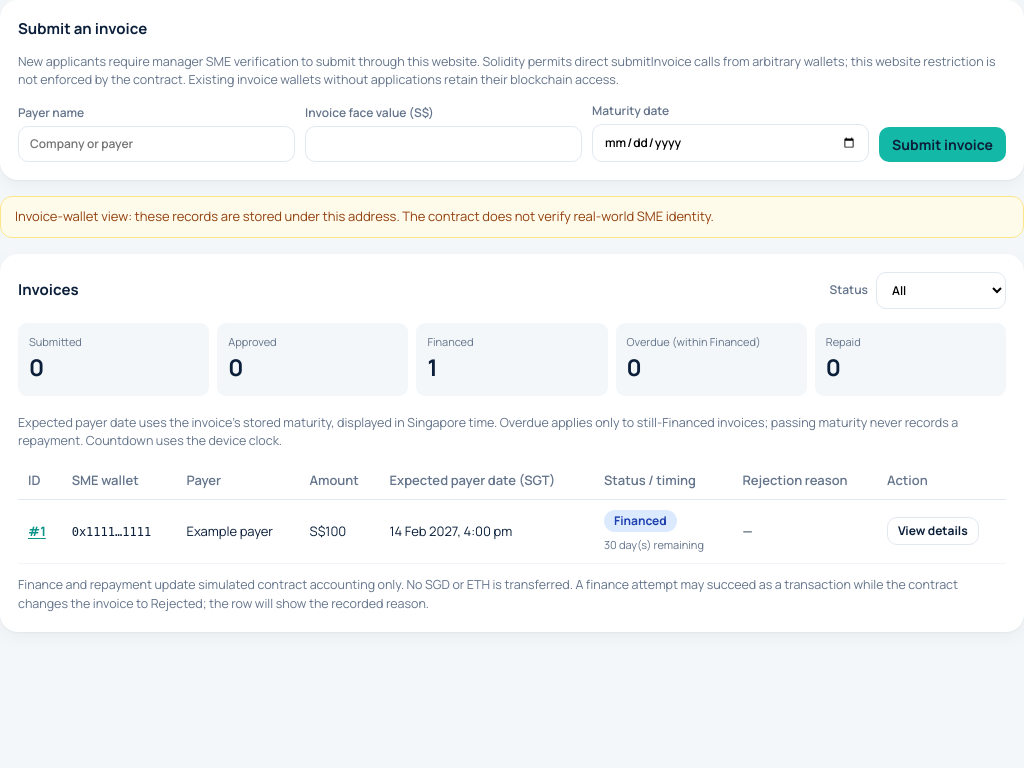
it: invoice maturity and unchanged transaction arguments › keeps SME details read-only and makes incomplete event history explicit
The width and height of the screenshot is (1024, 768).
Step 1. Click the button "#1" → point(37, 531), box [28,522,46,541]
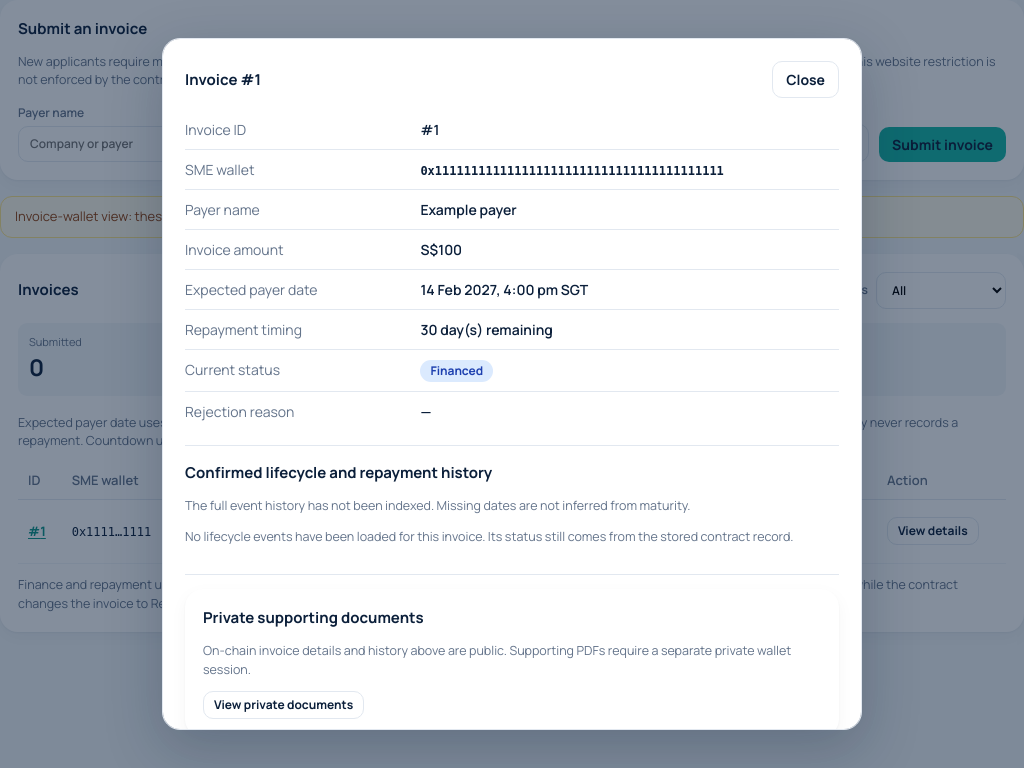
Check: the text "full event history has not been indexed" is shown, box [185,497,434,514]
